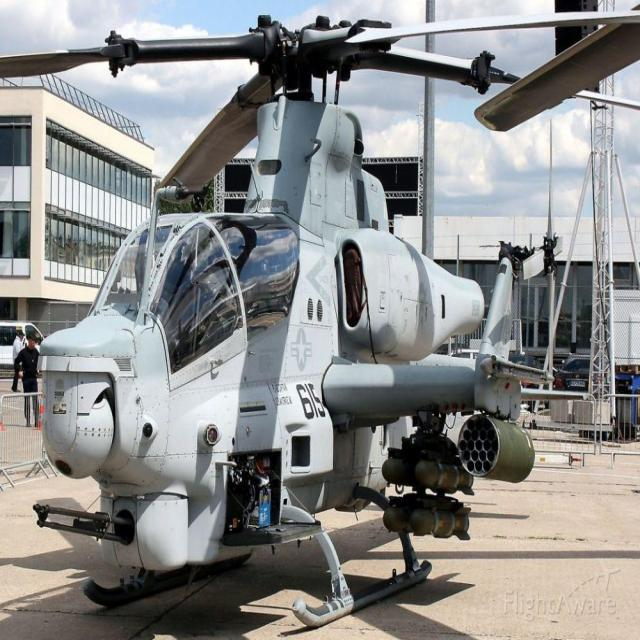MIL_HELO: (0, 10, 640, 629)
